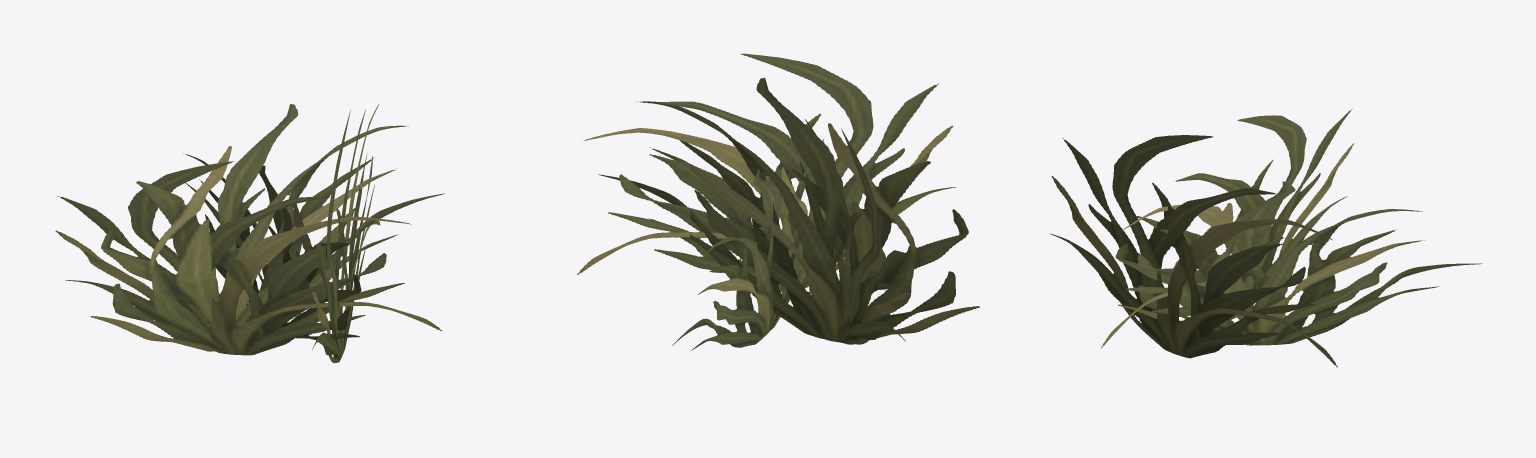
The model's file is grass_patch_small.glb.
The picture shows the model from 3 angles, left to right: view 1: azimuth 30°, elevation 25°; view 2: azimuth 150°, elevation 25°; view 3: azimuth 270°, elevation 25°; orthographic projection. The views are drawn at different scales.
Visible parts, largest first — view 1: outdoor_grass_patch_small; view 2: outdoor_grass_patch_small; view 3: outdoor_grass_patch_small.
Part boxes in pixels (x1,y1,x2,y2): outdoor_grass_patch_small: (55, 104, 444, 363); outdoor_grass_patch_small: (577, 53, 979, 350); outdoor_grass_patch_small: (1050, 108, 1482, 367).
Bounding box in the file's own units: 0.55 × 0.3 × 0.55.
Materials: 1 (1 with a texture image).
